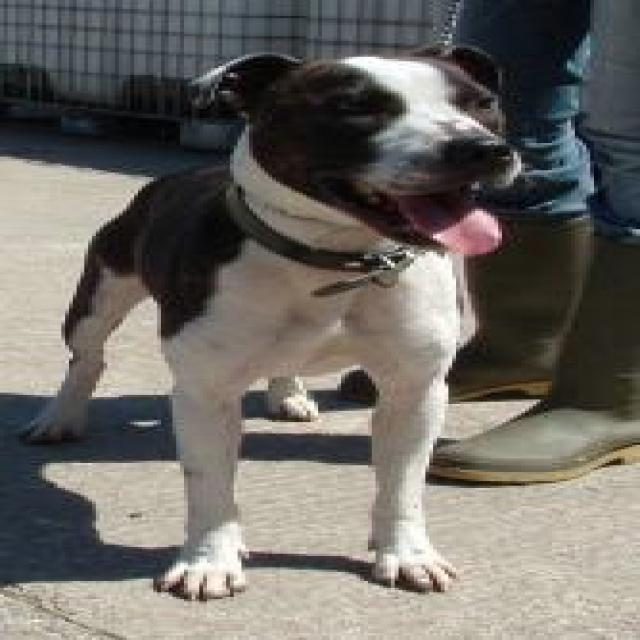staffordshire_bullterrier: (61, 40, 533, 610)
